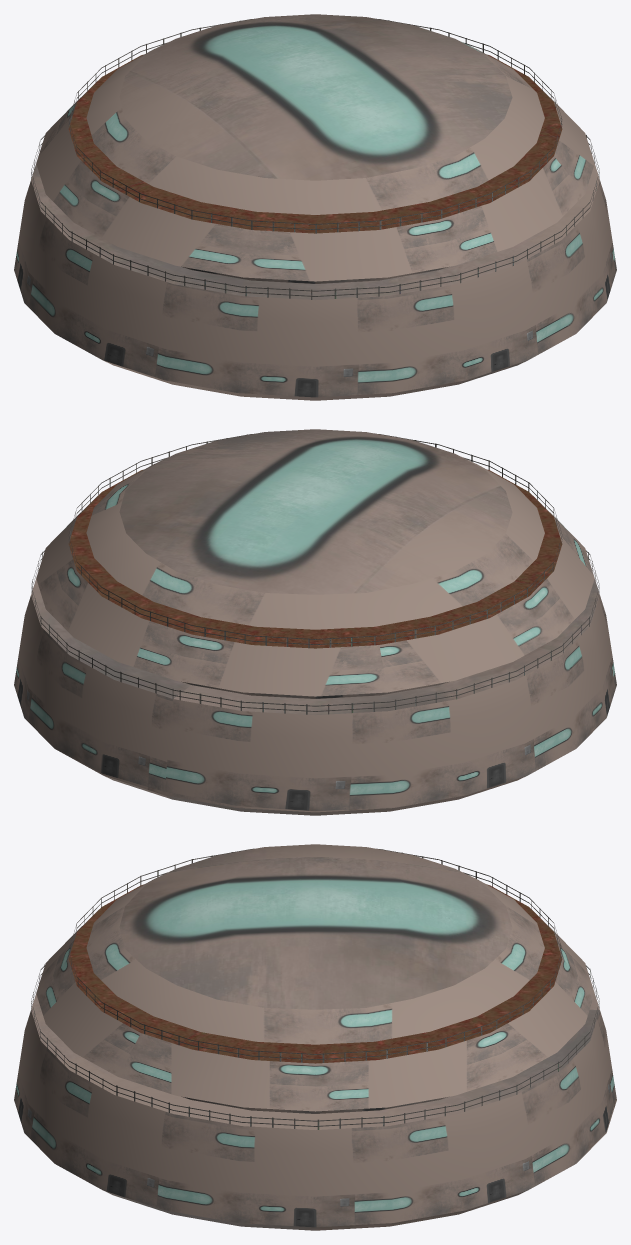
The model's file is CylinderHouse3.fbx.
3 views of the same model, one above another, from view 1: azimuth 30°, elevation 25°; view 2: azimuth 150°, elevation 25°; view 3: azimuth 270°, elevation 25° (orthographic).
Parts seen in each view (by area): view 1: CylinderHouse3; view 2: CylinderHouse3; view 3: CylinderHouse3.
Part boxes in pixels (<box>): CylinderHouse3: <box>14,14,616,400</box>; CylinderHouse3: <box>14,429,616,815</box>; CylinderHouse3: <box>14,844,616,1230</box>.
Size of the model in its own units: 95680 by 95680 by 36800.
3 materials, 3 textured.
